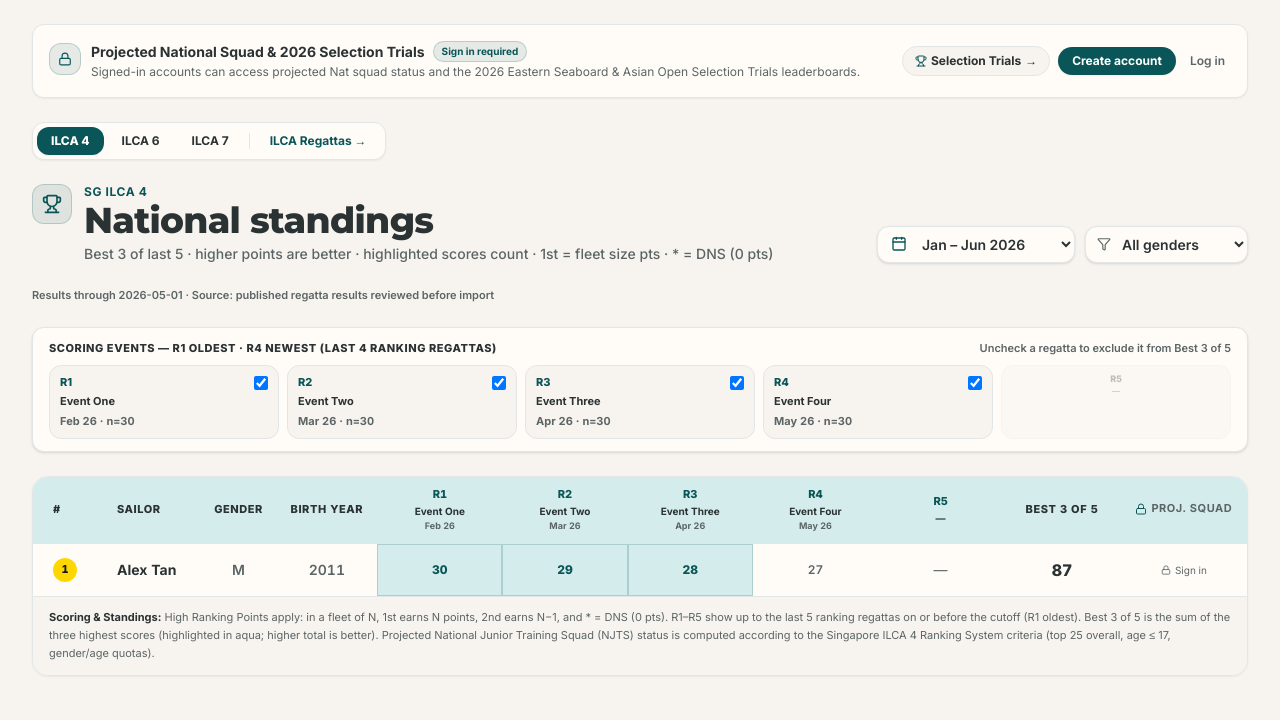
Test case: IlcaRankingsView › handles regatta exclusion toggle and updates what-if view
Uncheck Event One
Click the checkbox labelled "R1 Event One Feb 26 · n=30" at (261, 383), box [254,376,268,390]
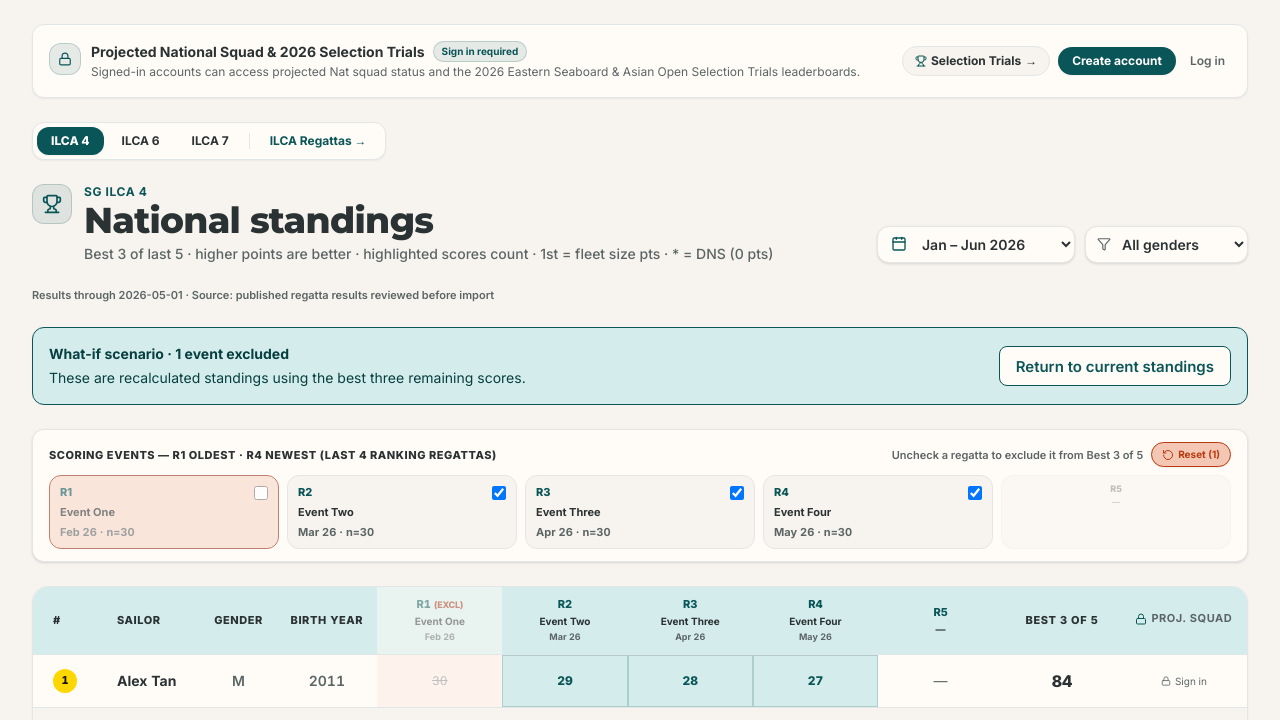
Now the text "What-if scenario · 1 event excluded" is shown, box [49,345,289,362]
Click reset
Click the button "Return to current standings" at (1115, 366), box [999,346,1231,386]
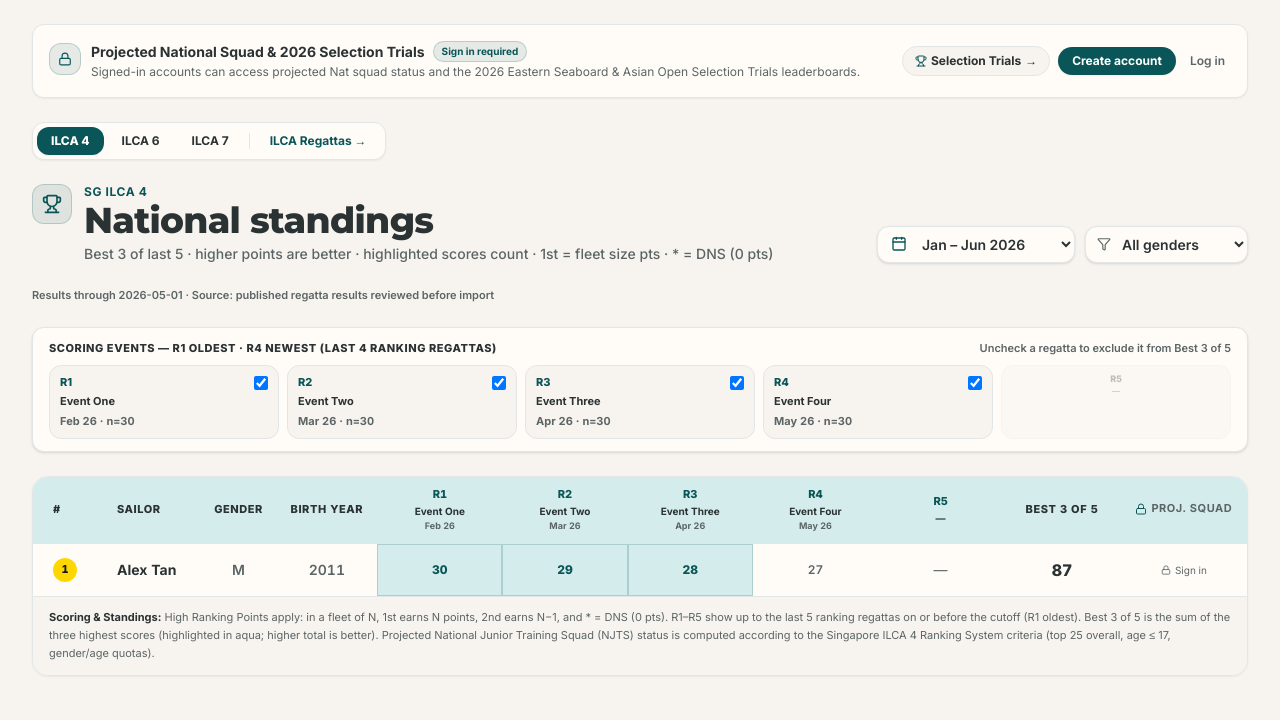
Now the text "What-if scenario" is gone
